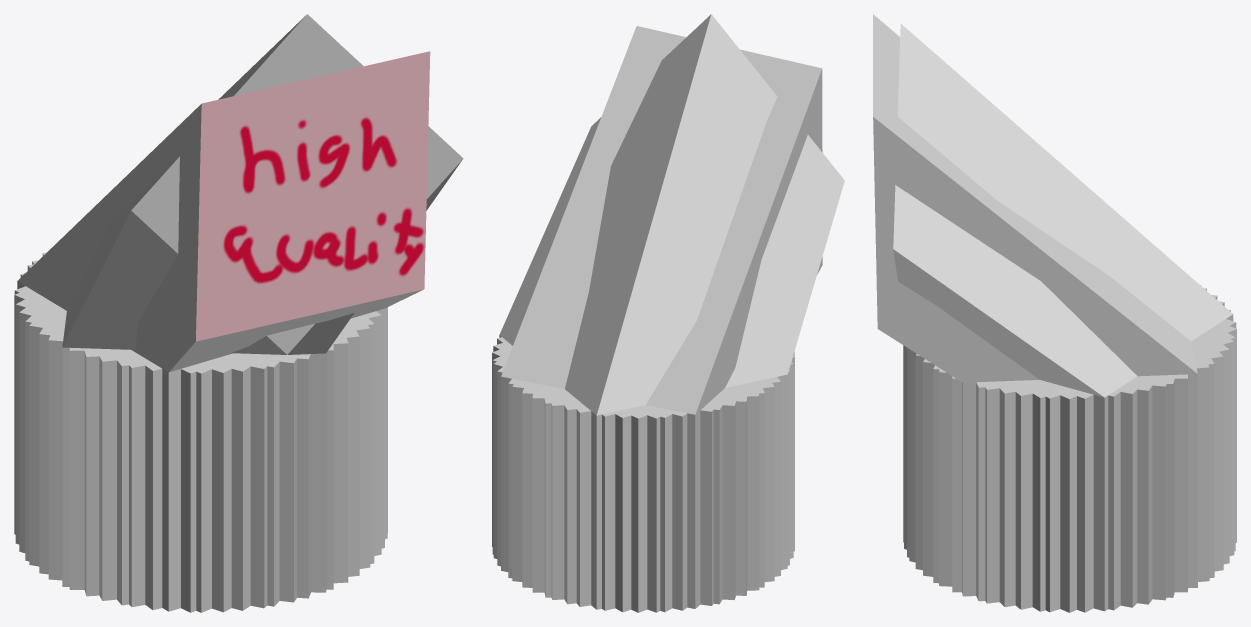
The picture shows the model from 3 angles, left to right: view 1: azimuth 30°, elevation 25°; view 2: azimuth 150°, elevation 25°; view 3: azimuth 270°, elevation 25°; orthographic projection. The views are drawn at different scales.
Parts seen in each view (by area): view 1: Cube; view 2: Cube; view 3: Cube.
Part boxes in pixels (x1,y1,x2,y2): Cube: (14, 14, 463, 612); Cube: (492, 14, 844, 612); Cube: (873, 14, 1236, 612).
Bounding box in the file's own units: 2.84 × 4.9 × 3.09.
2 materials, 1 textured.
